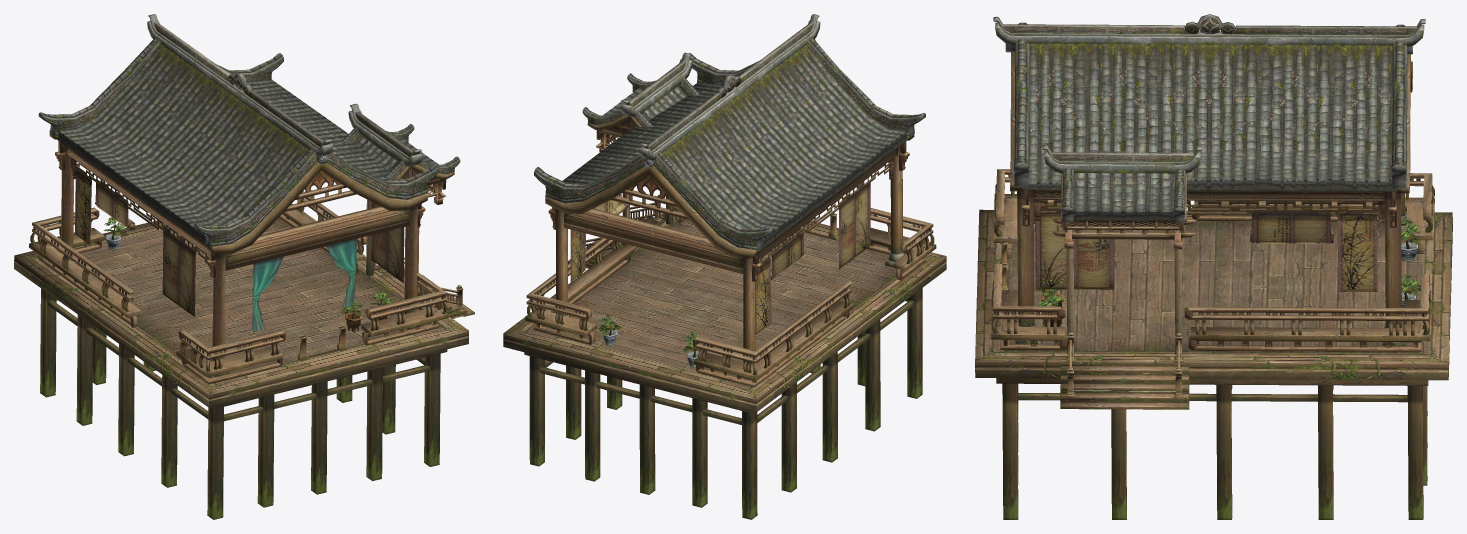
The model's file is Hangzhou_wj_016.FBX.
3 renders of one model, left to right at view 1: azimuth 30°, elevation 25°; view 2: azimuth 150°, elevation 25°; view 3: azimuth 270°, elevation 25°, orthographic. The views are drawn at different scales.
Parts seen in each view (by area): view 1: DrawCall_0883, DrawCall_1274, DrawCall_1273, DrawCall_0881; view 2: DrawCall_0883, DrawCall_1274, DrawCall_1273, DrawCall_0881; view 3: DrawCall_0883, DrawCall_1274, DrawCall_1273, DrawCall_0881.
Part boxes in pixels (bbox=[...]): DrawCall_0883: bbox=[14, 141, 474, 519]; DrawCall_1274: bbox=[54, 44, 438, 247]; DrawCall_1273: bbox=[29, 14, 460, 377]; DrawCall_0881: bbox=[37, 157, 457, 354]; DrawCall_0883: bbox=[503, 39, 946, 519]; DrawCall_1274: bbox=[562, 44, 909, 251]; DrawCall_1273: bbox=[525, 14, 936, 380]; DrawCall_0881: bbox=[536, 134, 928, 382]; DrawCall_0883: bbox=[975, 43, 1452, 519]; DrawCall_1274: bbox=[1022, 43, 1396, 220]; DrawCall_1273: bbox=[990, 14, 1434, 350]; DrawCall_0881: bbox=[1003, 175, 1420, 347].
Bounding box in the file's own units: 1024 × 1163 × 1154.
